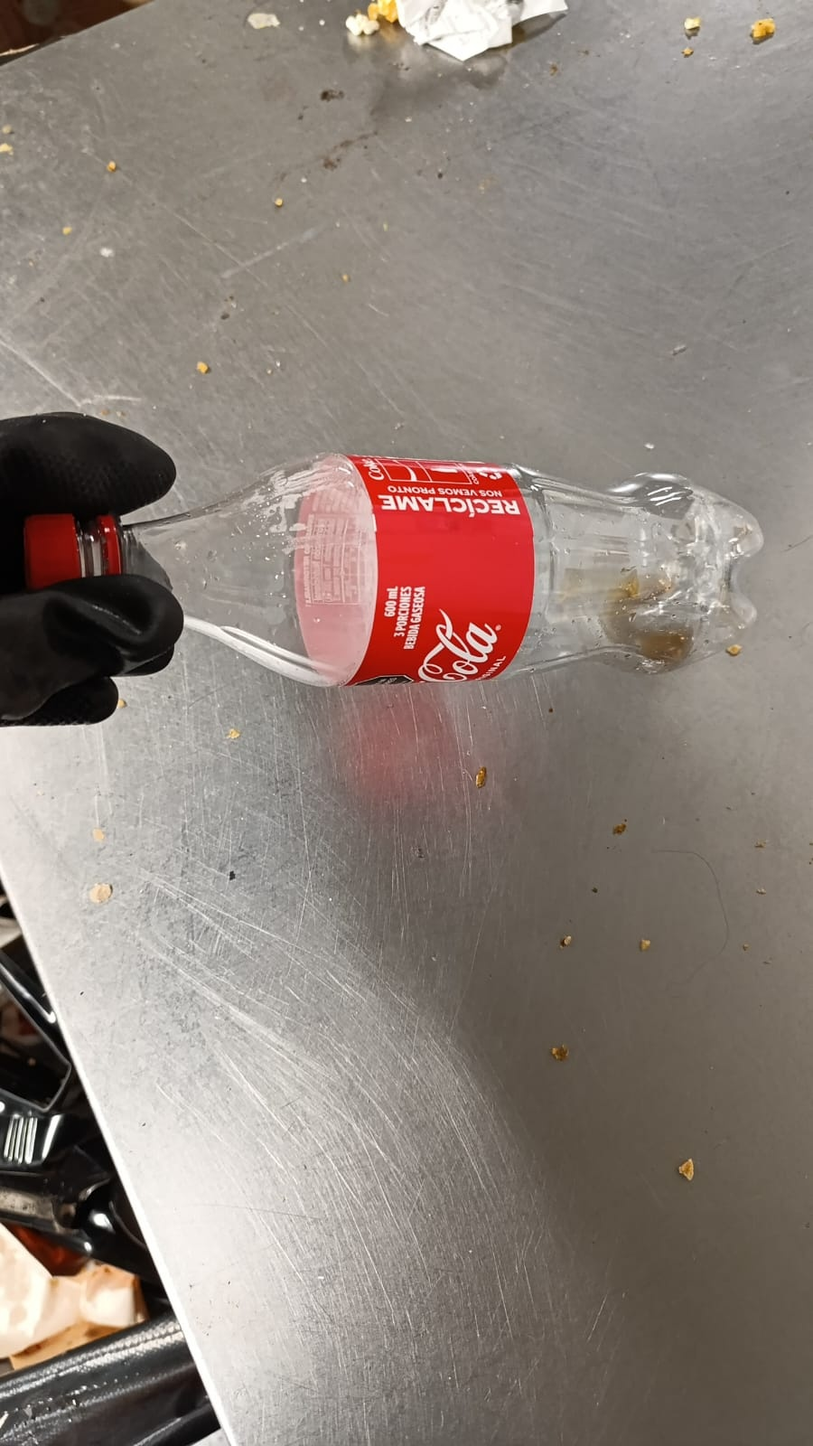Plastico: (36, 458, 768, 686)
